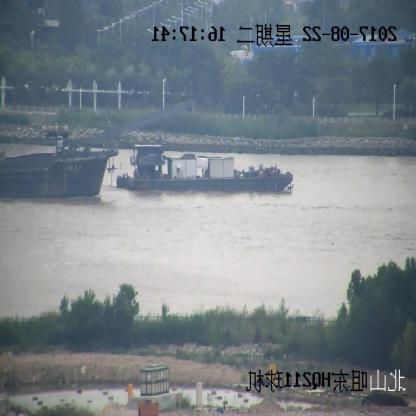Bulk Carrier: (0, 103, 191, 202), (116, 145, 292, 194)
